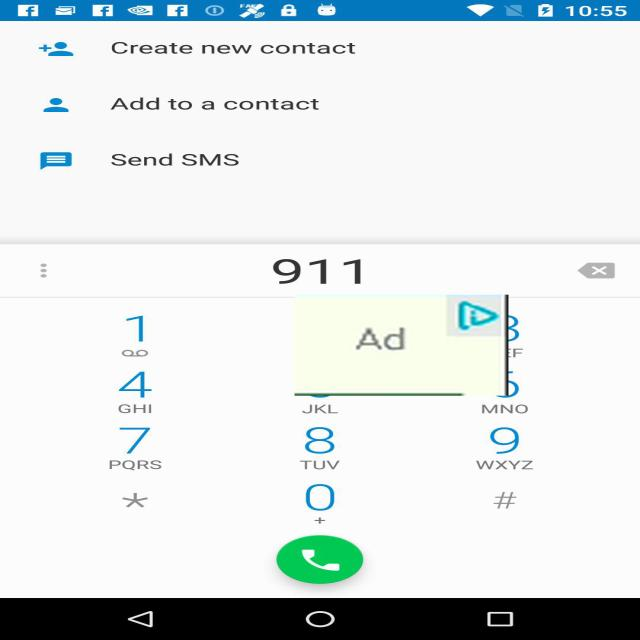sneaking: (294, 294, 508, 396)
